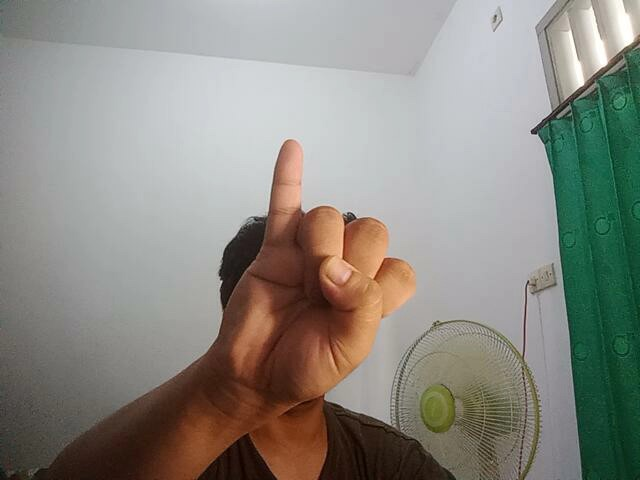I: (210, 129, 427, 421)
